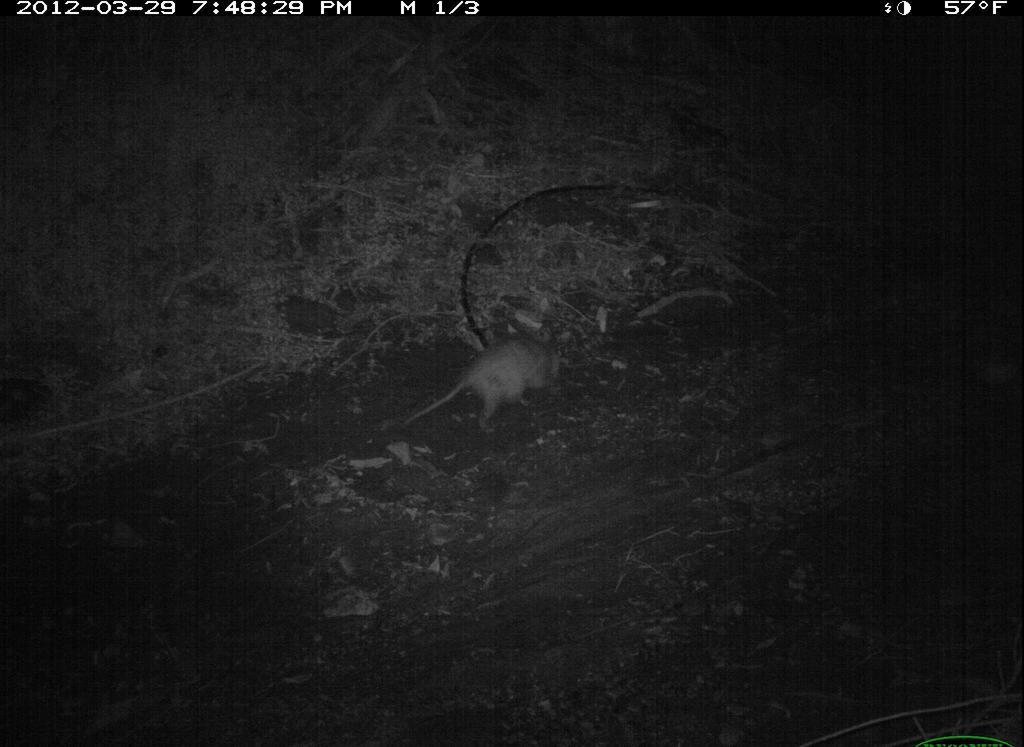opossum: (393, 335, 575, 432)
